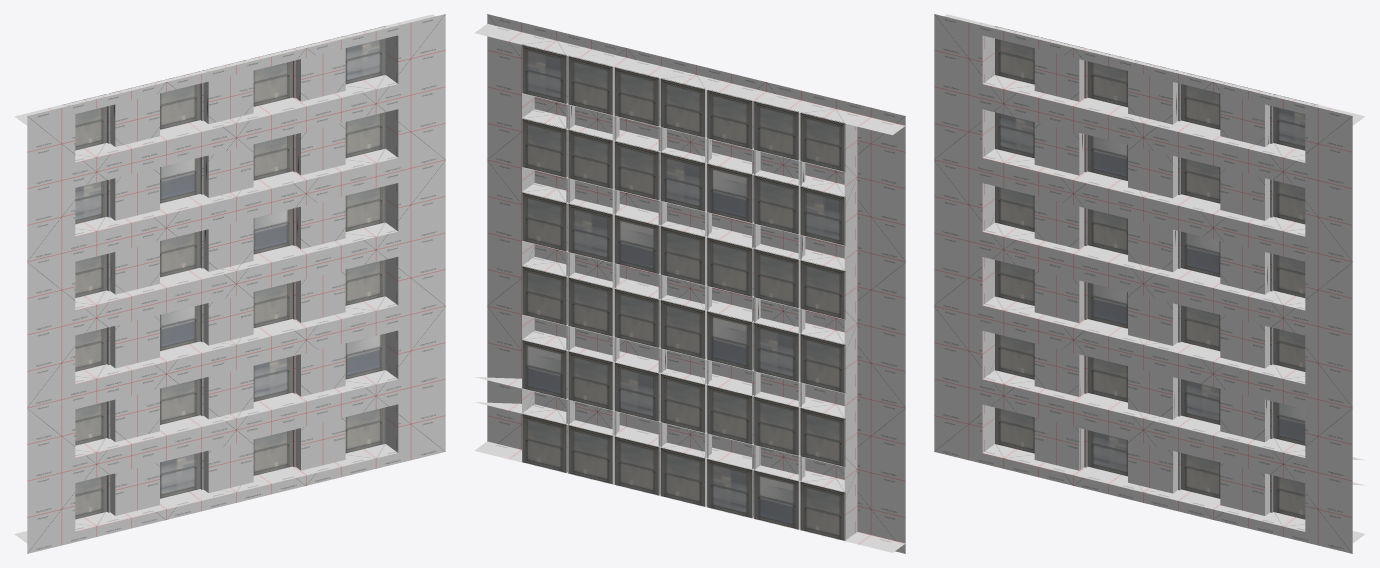
3 views of the same model, side by side, from view 1: azimuth 30°, elevation 25°; view 2: azimuth 150°, elevation 25°; view 3: azimuth 330°, elevation 25° (orthographic).
Parts seen in each view (by area): view 1: B_04_3x_d, B_04_3x_extra_a; view 2: B_04_3x_d, B_04_3x_extra_a; view 3: B_04_3x_d, B_04_3x_extra_a.
Part boxes in pixels (x1,y1,x2,y2): B_04_3x_d: [14, 14, 445, 553]; B_04_3x_extra_a: [110, 48, 345, 515]; B_04_3x_d: [474, 14, 905, 553]; B_04_3x_extra_a: [568, 56, 805, 529]; B_04_3x_d: [934, 14, 1365, 553]; B_04_3x_extra_a: [1034, 48, 1269, 515].
Bounding box in the file's own units: 60 × 3.21 × 59.99.
